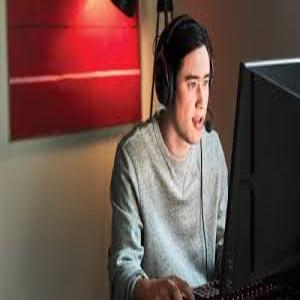Headphones: (153, 17, 214, 105)
